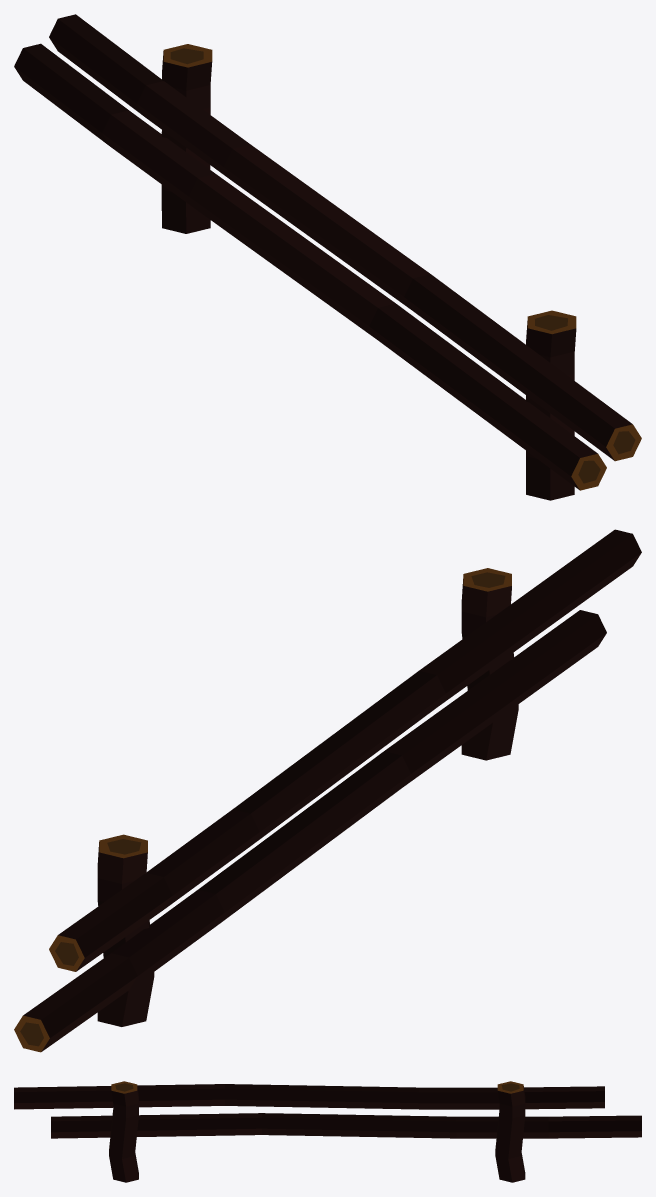
File: railS_1.fbx
3 views of the same model, one above another, from view 1: azimuth 30°, elevation 25°; view 2: azimuth 150°, elevation 25°; view 3: azimuth 270°, elevation 25° (orthographic). The views are drawn at different scales.
Visible parts, largest first — view 1: railS_1; view 2: railS_1; view 3: railS_1.
Part boxes in pixels (x1,y1,x2,y2): railS_1: [14, 14, 641, 500]; railS_1: [14, 529, 641, 1052]; railS_1: [14, 1081, 641, 1182].
Bounding box in the file's own units: 0.3333 × 4.41 × 0.6887.
